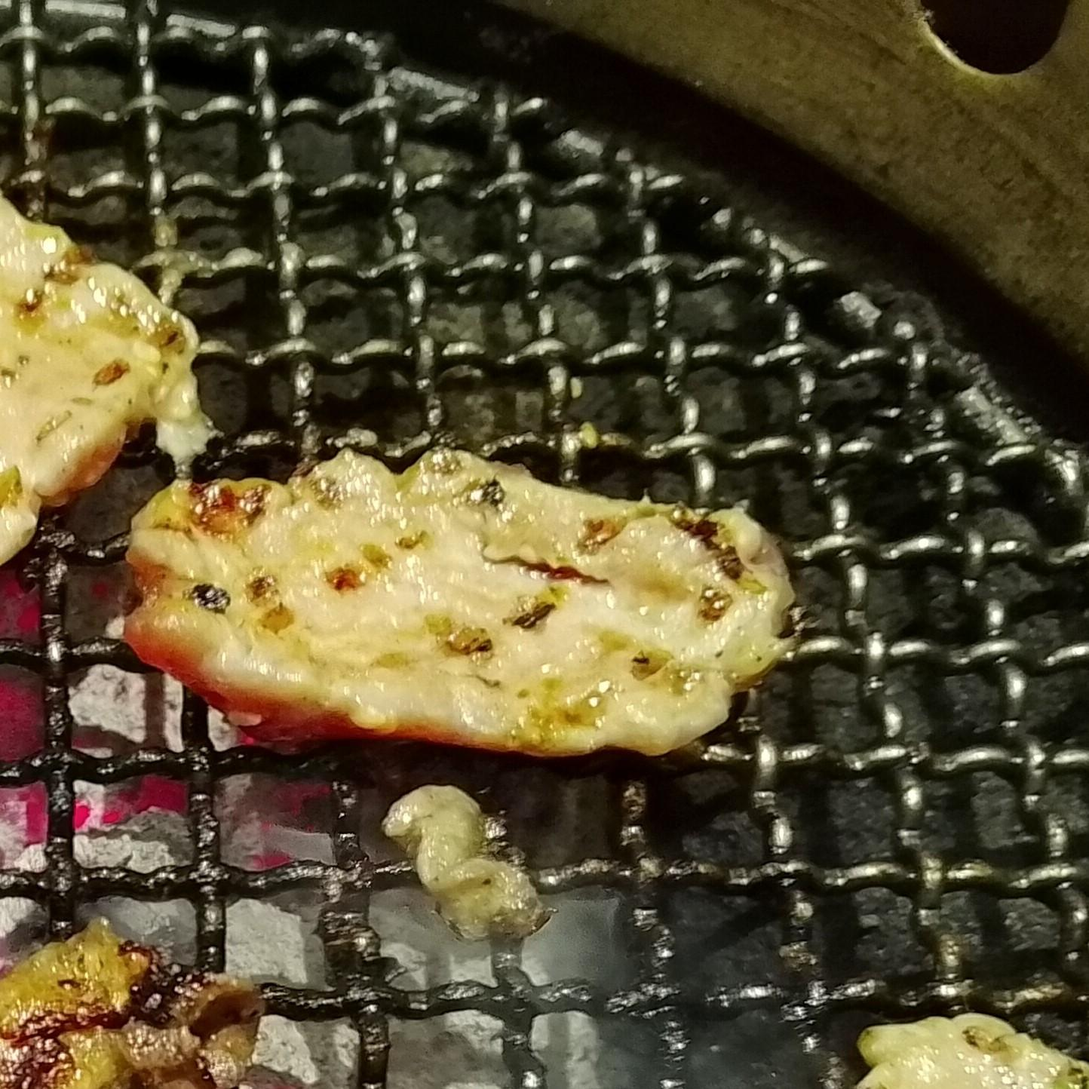Overcooked: (0, 924, 304, 1088)
Well-Cooked: (111, 447, 803, 764), (0, 193, 198, 572), (851, 1013, 1088, 1088)
